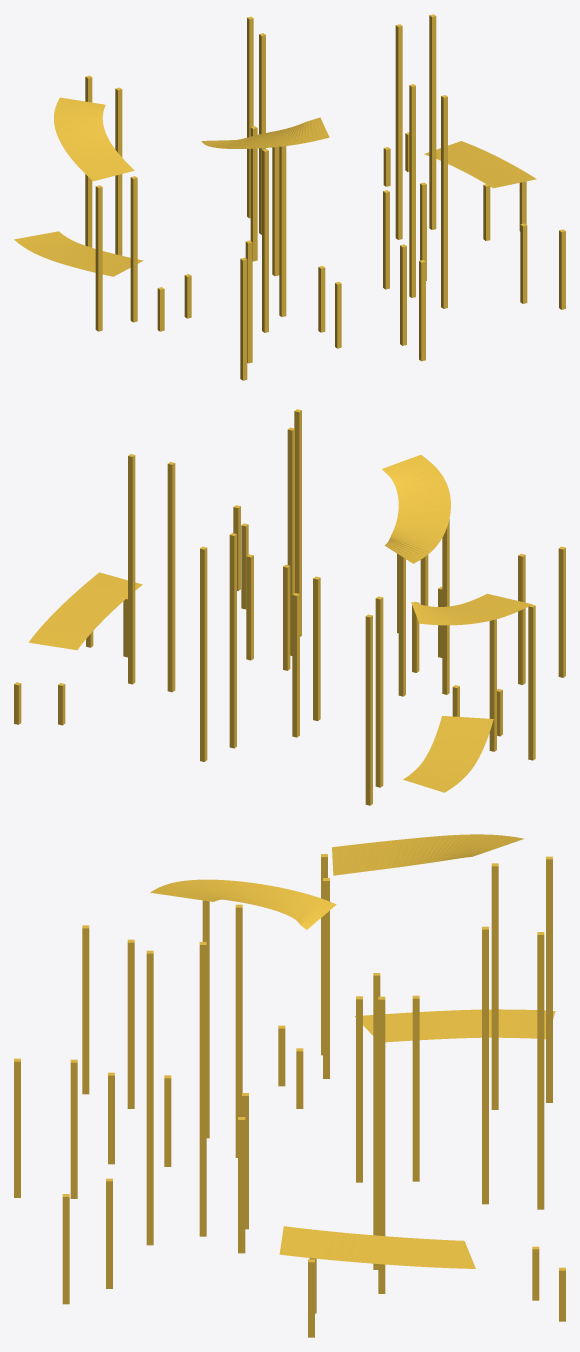
The model's file is circuit-part-5.glb.
The picture shows the model from 3 angles, top to bottom: view 1: azimuth 30°, elevation 25°; view 2: azimuth 150°, elevation 25°; view 3: azimuth 270°, elevation 25°; orthographic projection. The views are drawn at different scales.
Parts seen in each view (by area): view 1: track-part-0; view 2: track-part-0; view 3: track-part-0.
Part boxes in pixels (x1,y1,x2,y2): track-part-0: (14,14,565,380); track-part-0: (14,409,565,805); track-part-0: (14,834,565,1337).
Size of the model in its own units: 25.15 by 12.01 by 20.42.
